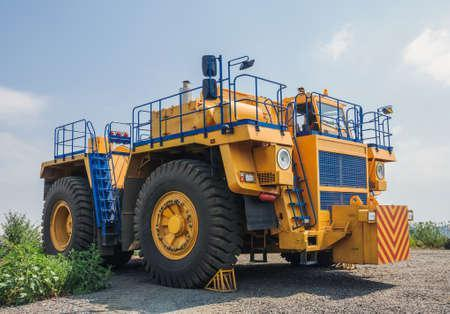dump truck: (29, 54, 416, 295)
